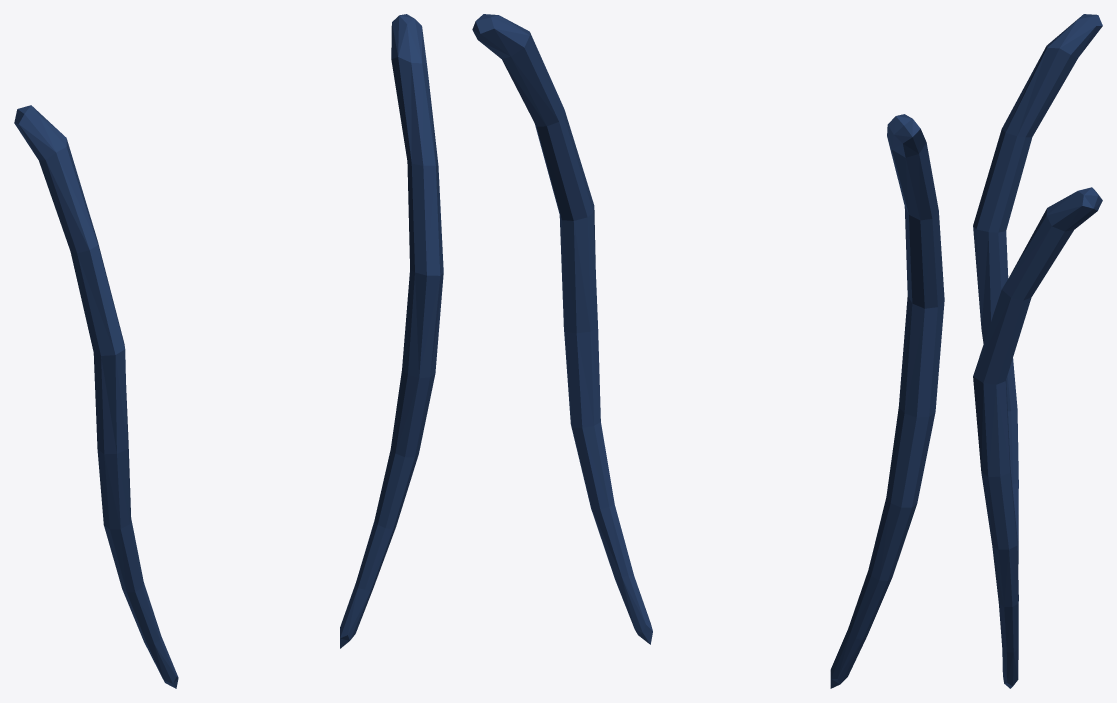
File: Vena Pudenda Interna.FBX
The picture shows the model from 3 angles, left to right: view 1: azimuth 30°, elevation 25°; view 2: azimuth 150°, elevation 25°; view 3: azimuth 270°, elevation 25°; orthographic projection. The views are drawn at different scales.
Visible parts, largest first — view 1: CS_Veins; view 2: CS_Veins; view 3: CS_Veins.
Boxes of the visible parts, <box> form: CS_Veins: <box>14,14,443,688</box>; CS_Veins: <box>472,14,944,688</box>; CS_Veins: <box>973,14,1102,688</box>.
Bounding box in the file's own units: 181 × 248 × 53.11.
